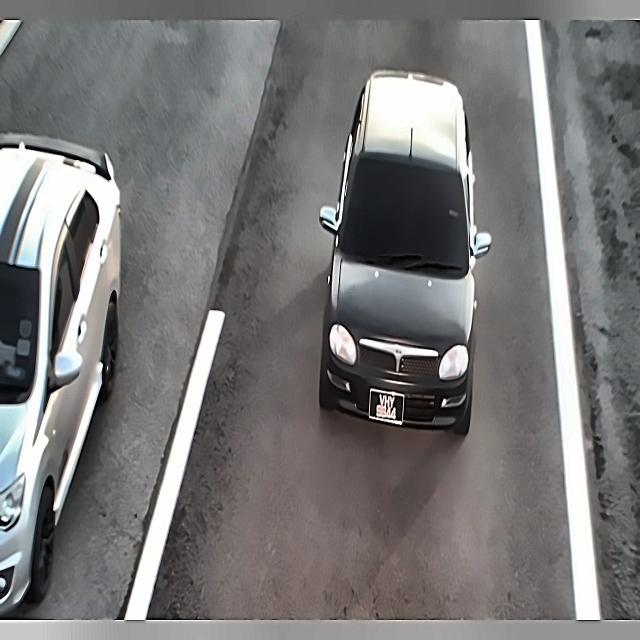car: (364, 382, 406, 432)
